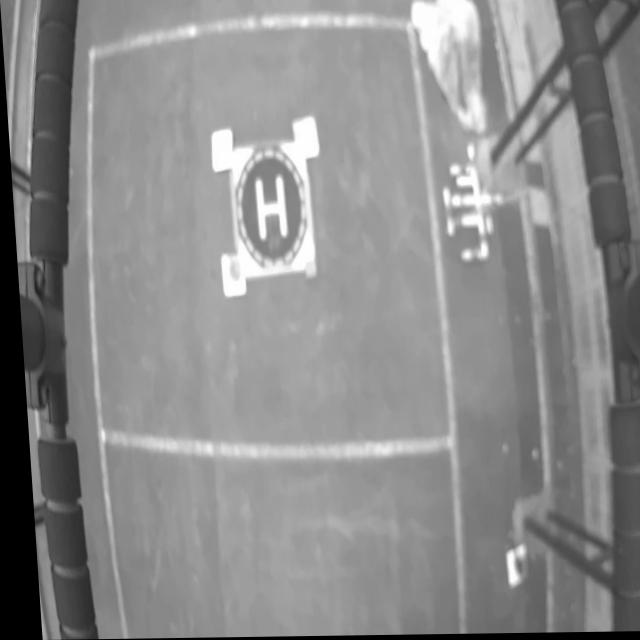Helipad: (252, 176, 285, 242)
